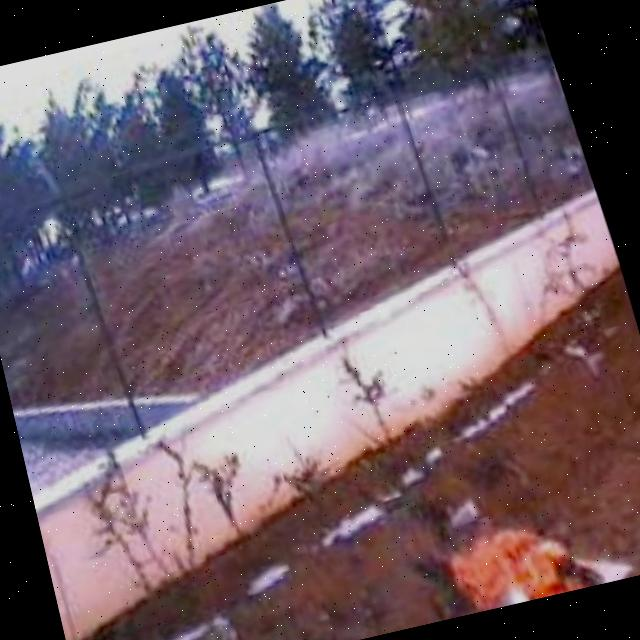fire: (427, 479, 621, 618)
